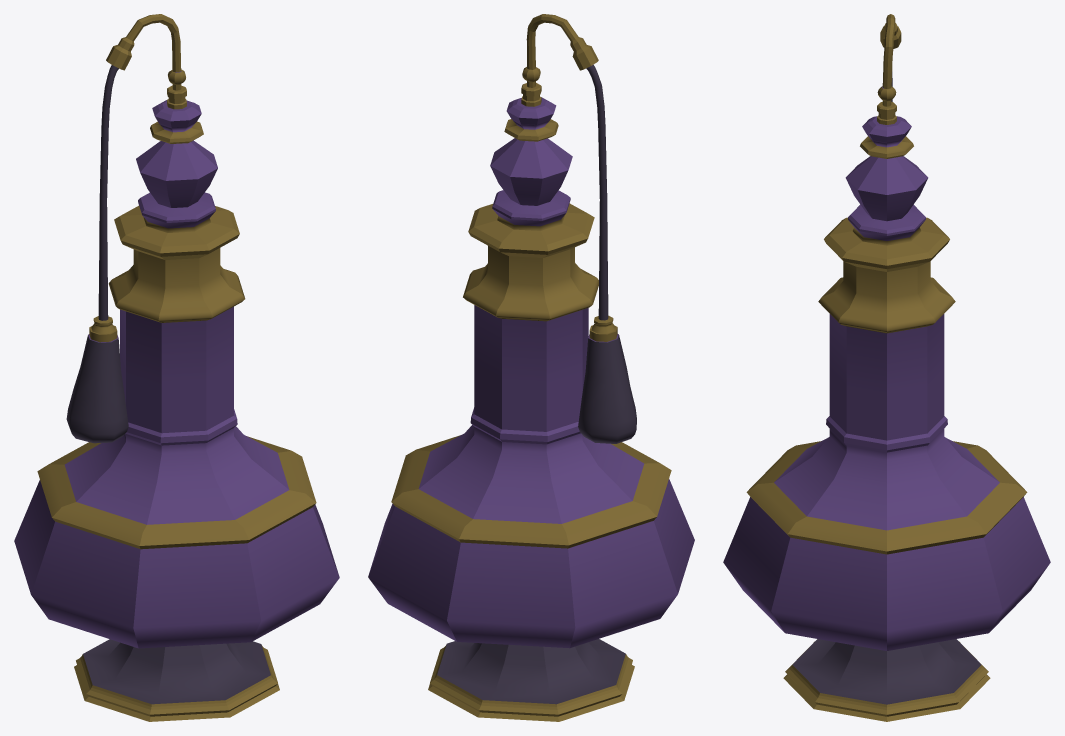
The model's file is Sari_perfume.fbx.
3 views of the same model, side by side, from view 1: azimuth 30°, elevation 25°; view 2: azimuth 150°, elevation 25°; view 3: azimuth 270°, elevation 25° (orthographic). The views are drawn at different scales.
Parts seen in each view (by area): view 1: pCube1; view 2: pCube1; view 3: pCube1.
Boxes of the visible parts, box(x1,y1,x2,y2) form: pCube1: box(14, 14, 339, 721); pCube1: box(368, 14, 694, 721); pCube1: box(723, 14, 1050, 721).
Size of the model in its own units: 5.39 by 11.78 by 5.39.
